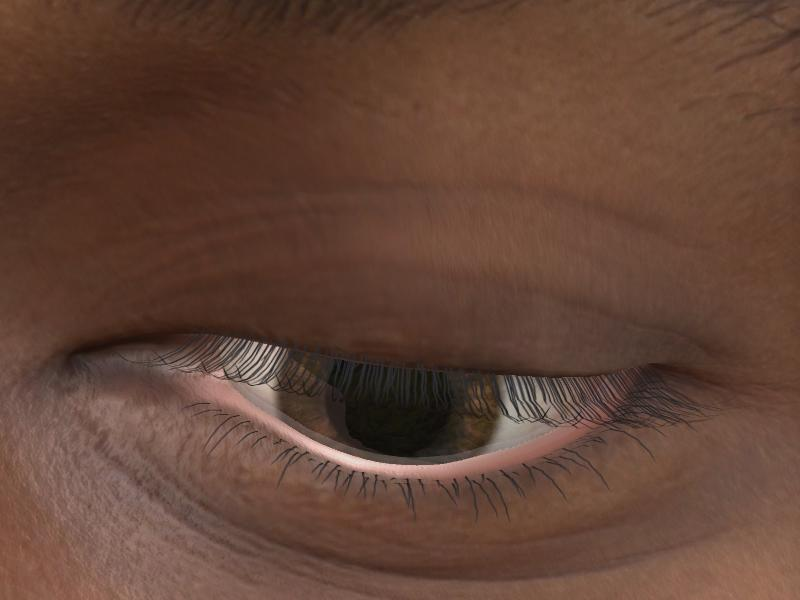eye: (273, 341, 496, 459)
